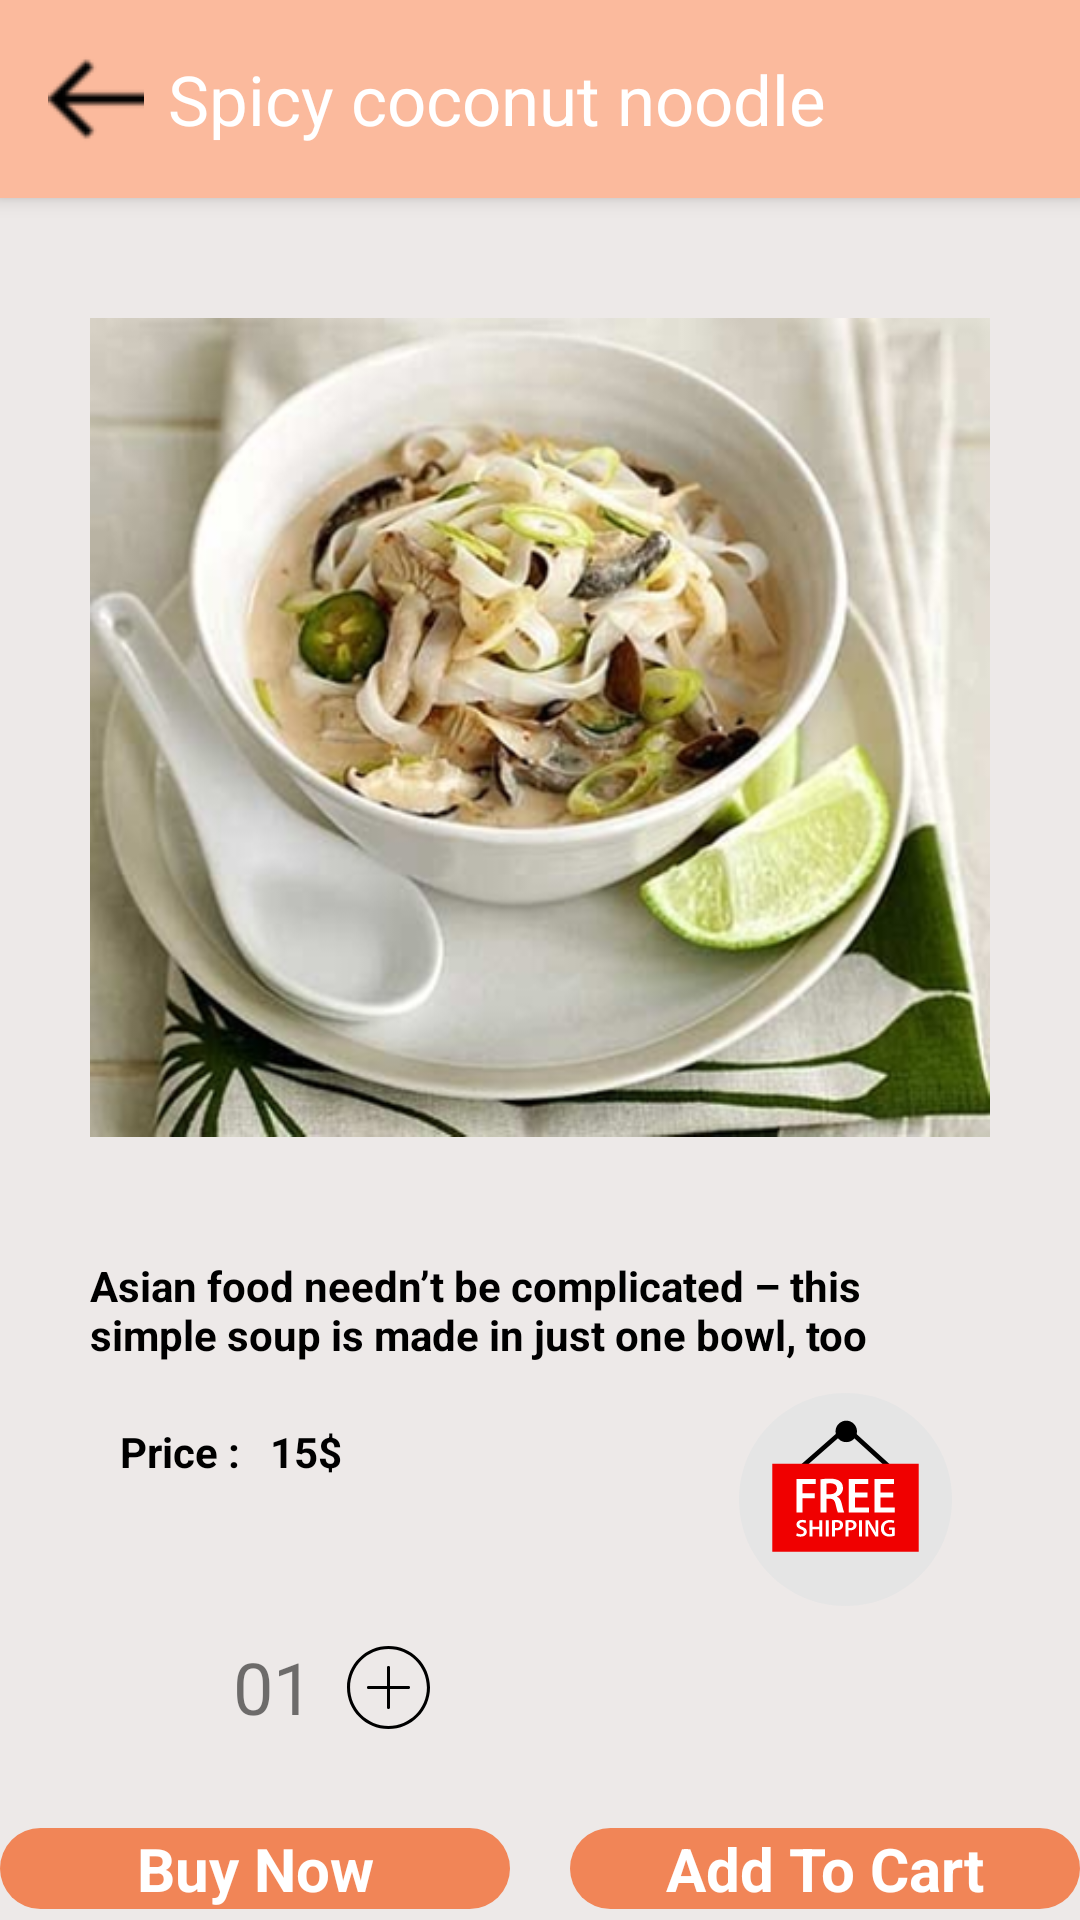

Icons on this 1080px x 1920px Android screen, each with its box as [x1, y1, x2, y2]:
left arrow: [48, 59, 144, 139]
plus: [347, 1646, 430, 1729]
